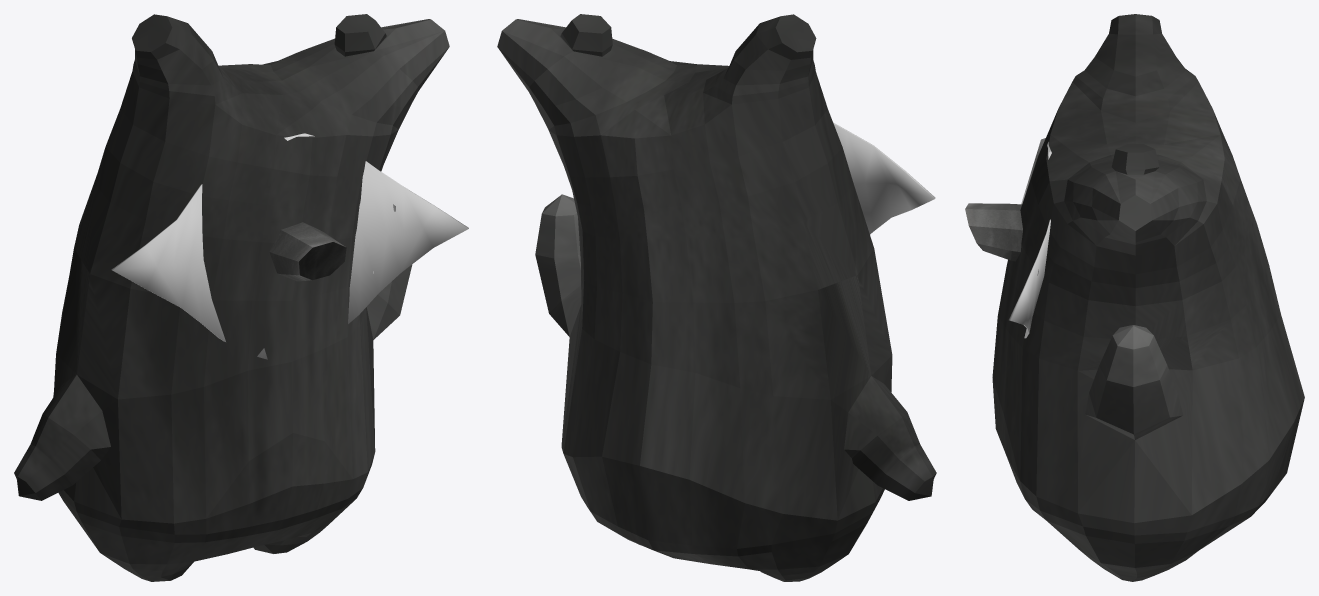
Rendered from frame_0059.obj.
3 renders of one model, left to right at view 1: azimuth 30°, elevation 25°; view 2: azimuth 150°, elevation 25°; view 3: azimuth 270°, elevation 25°, orthographic. The views are drawn at different scales.
Parts seen in each view (by area): view 1: korok, leaf, nose; view 2: korok, leaf; view 3: korok, nose, leaf.
Part boxes in pixels (x1=…): korok: x1=14, y1=14, x2=449, y2=581; leaf: x1=111, y1=133, x2=468, y2=359; nose: x1=269, y1=222, x2=346, y2=281; korok: x1=497, y1=14, x2=936, y2=581; leaf: x1=833, y1=122, x2=935, y2=234; korok: x1=992, y1=14, x2=1304, y2=581; nose: x1=965, y1=203, x2=1022, y2=261; leaf: x1=1009, y1=138, x2=1051, y2=338.
Size of the model in its own units: 1.71 by 2.13 by 1.27.
